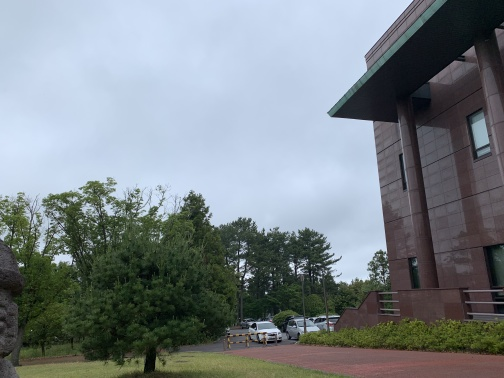Museum: (323, 11, 504, 327)
